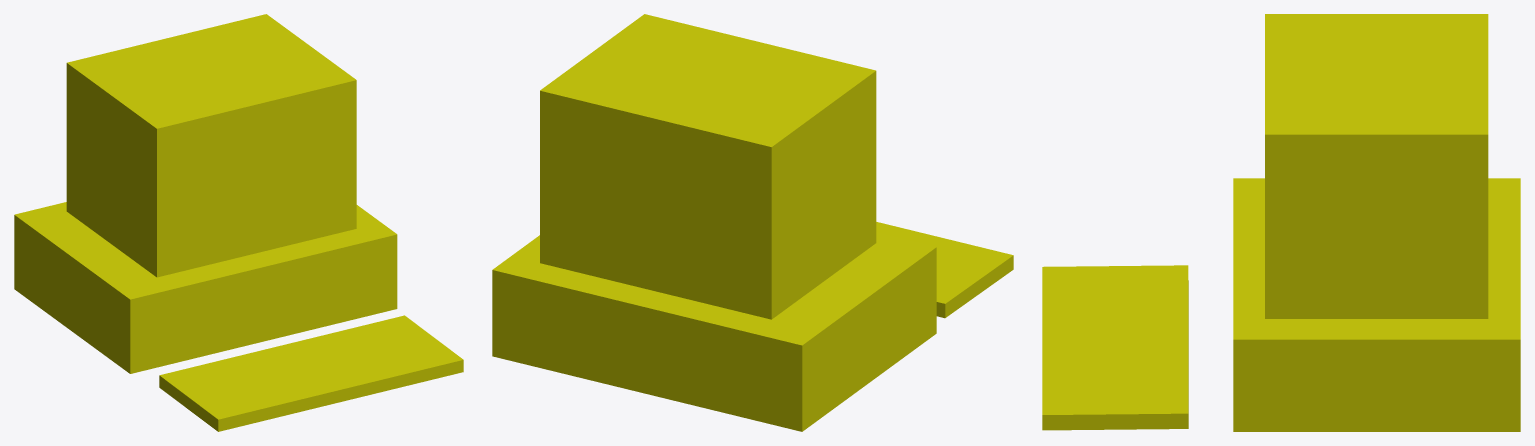
Rendered from ibmpc-collider.dae.
3 views of the same model, side by side, from view 1: azimuth 30°, elevation 25°; view 2: azimuth 150°, elevation 25°; view 3: azimuth 270°, elevation 25° (orthographic). The views are drawn at different scales.
Visible parts, largest first — view 1: collider-monitor, collider-case, collider-keyboard; view 2: collider-monitor, collider-case, collider-keyboard; view 3: collider-monitor, collider-case, collider-keyboard.
Boxes of the visible parts, <box> form: collider-monitor: <box>66,14,356,277</box>; collider-case: <box>14,202,397,373</box>; collider-keyboard: <box>159,315,463,431</box>; collider-monitor: <box>540,14,876,319</box>; collider-case: <box>492,232,936,431</box>; collider-keyboard: <box>876,222,1013,318</box>; collider-monitor: <box>1265,14,1488,318</box>; collider-case: <box>1233,178,1520,431</box>; collider-keyboard: <box>1042,265,1188,430</box>.
Bounding box in the file's own units: 0.6396 × 0.8011 × 0.5271.
